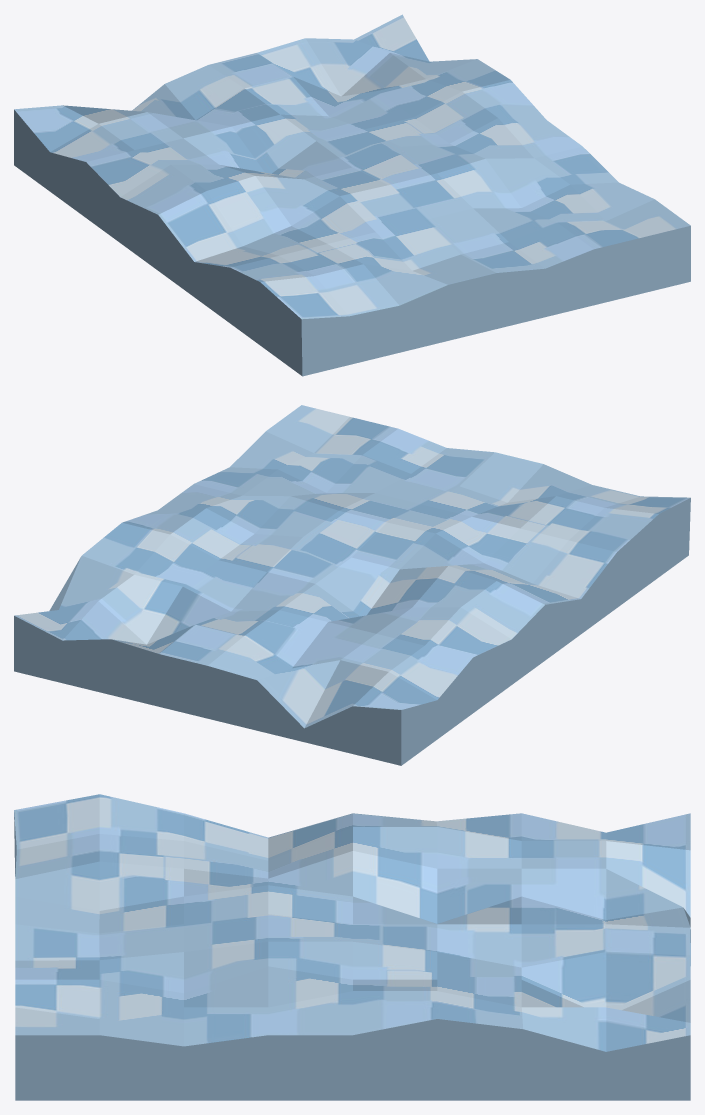
File: Waterexperiement.fbx
3 views of the same model, one above another, from view 1: azimuth 30°, elevation 25°; view 2: azimuth 150°, elevation 25°; view 3: azimuth 270°, elevation 25° (orthographic). The views are drawn at different scales.
Visible parts, largest first — view 1: pCube1; view 2: pCube1; view 3: pCube1.
Part boxes in pixels (left/top/right/bottom): pCube1: left=14, top=14, right=690, bottom=376; pCube1: left=14, top=405, right=690, bottom=765; pCube1: left=14, top=794, right=690, bottom=1100.
Size of the model in its own units: 11.85 by 2.03 by 14.9.
1 material, 1 textured.
